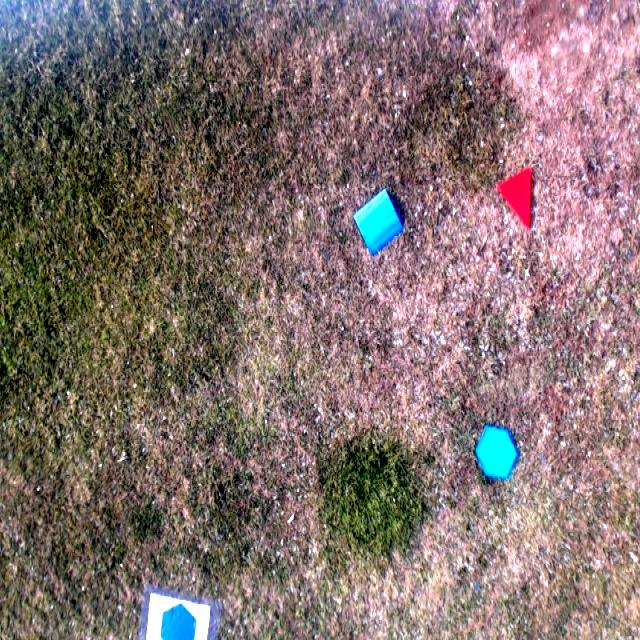blue_hexagon: (476, 424, 520, 484)
blue_square: (353, 191, 405, 255)
red_triangle: (496, 166, 532, 232)
